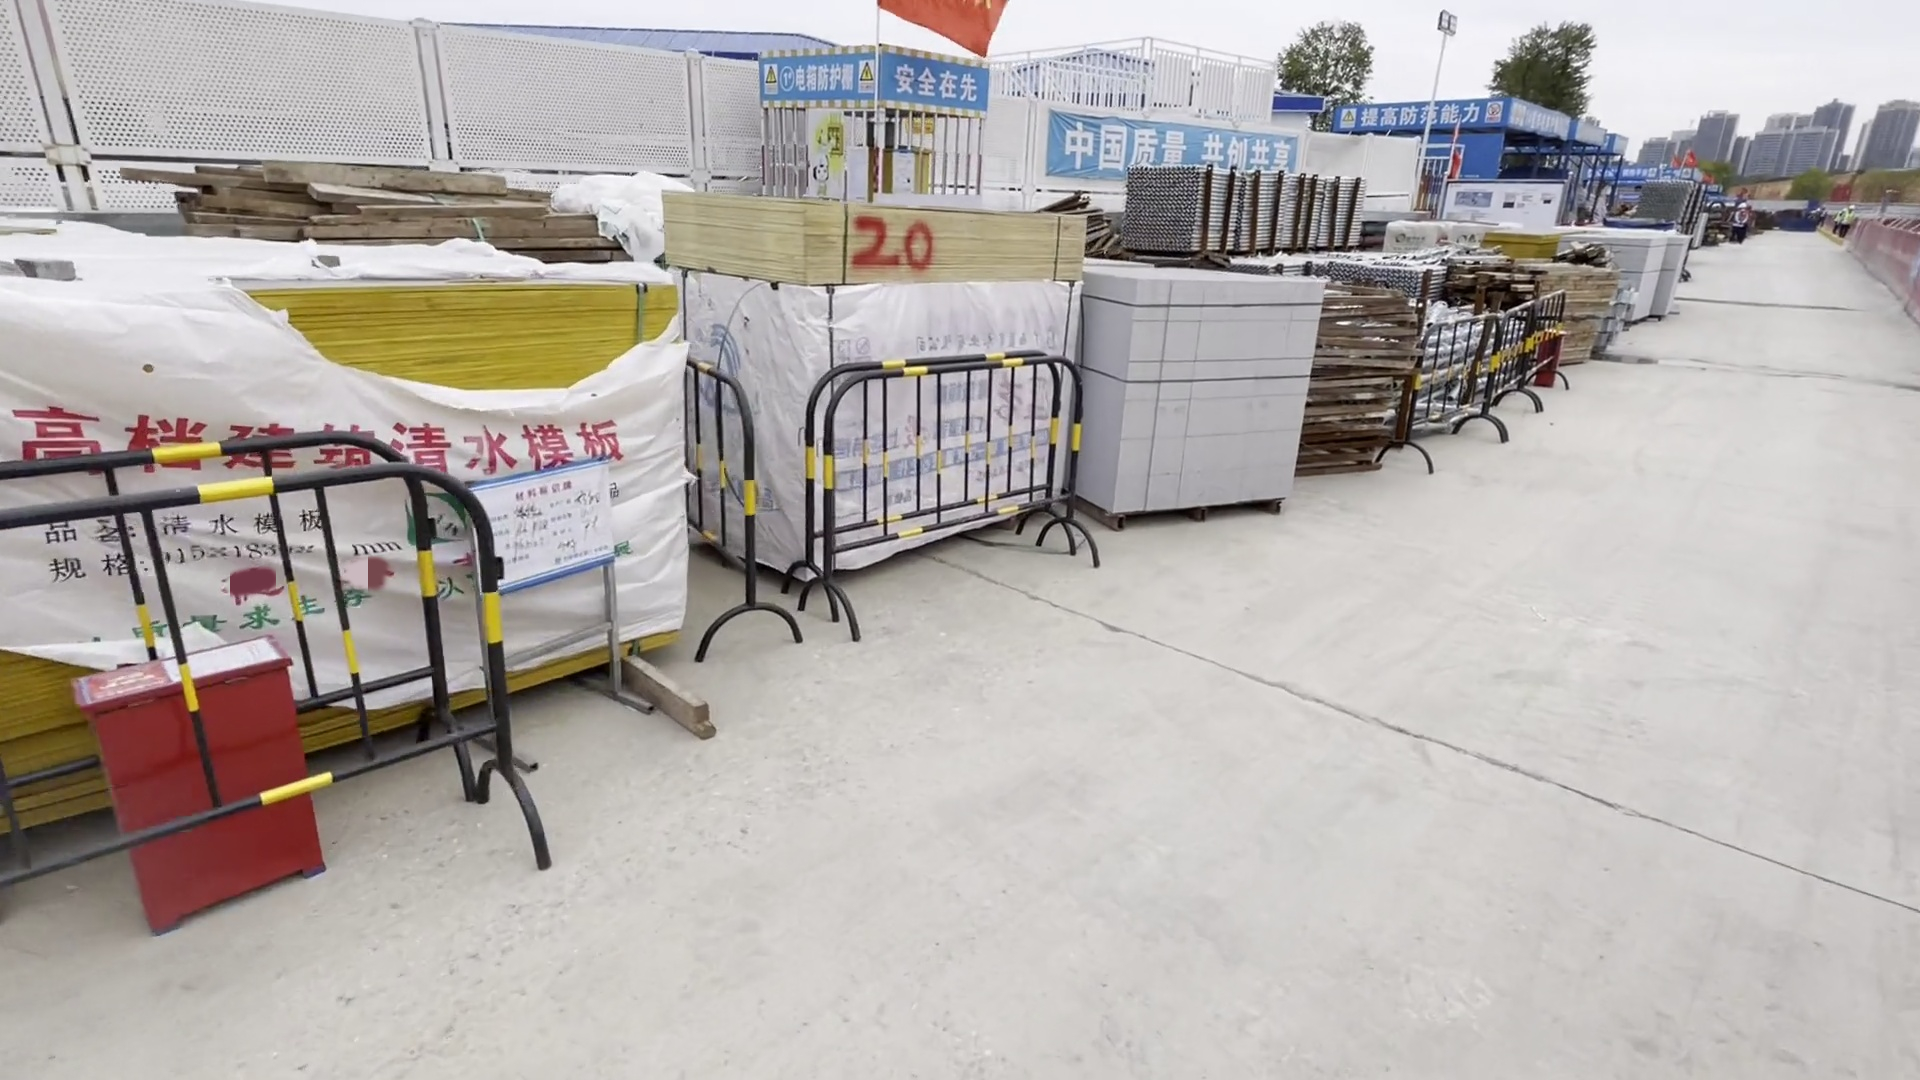board: (44, 289, 669, 737)
brick: (1068, 269, 1319, 531), (1572, 227, 1698, 313)
fence: (796, 371, 1106, 613), (1416, 305, 1555, 438)
scaffold: (1129, 167, 1371, 258)
slogan: (1040, 109, 1287, 185), (757, 55, 1000, 105), (1338, 95, 1511, 135)
